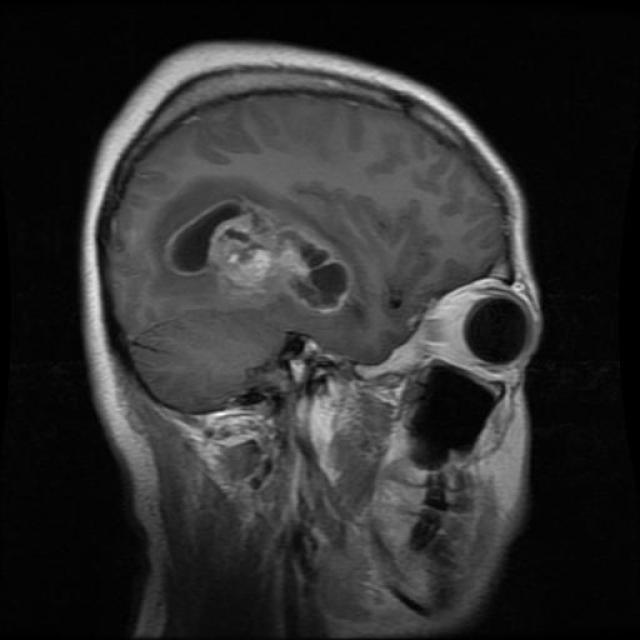glioma: (166, 196, 354, 318)
